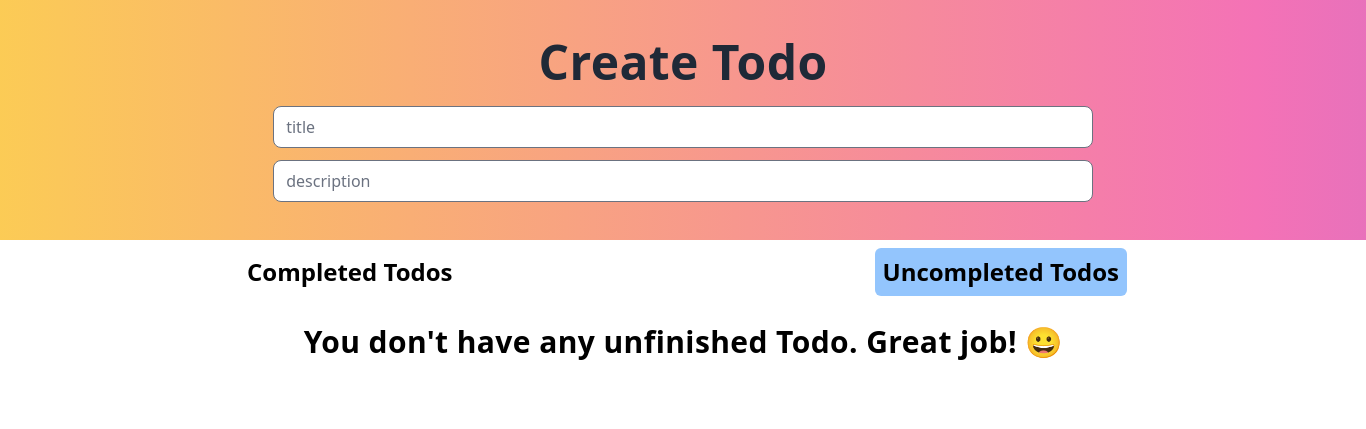
HomePage › should be possible to delete the todo
Step 1. Click the button with test id "btn-completed" → point(350, 272), box [239, 248, 461, 296]
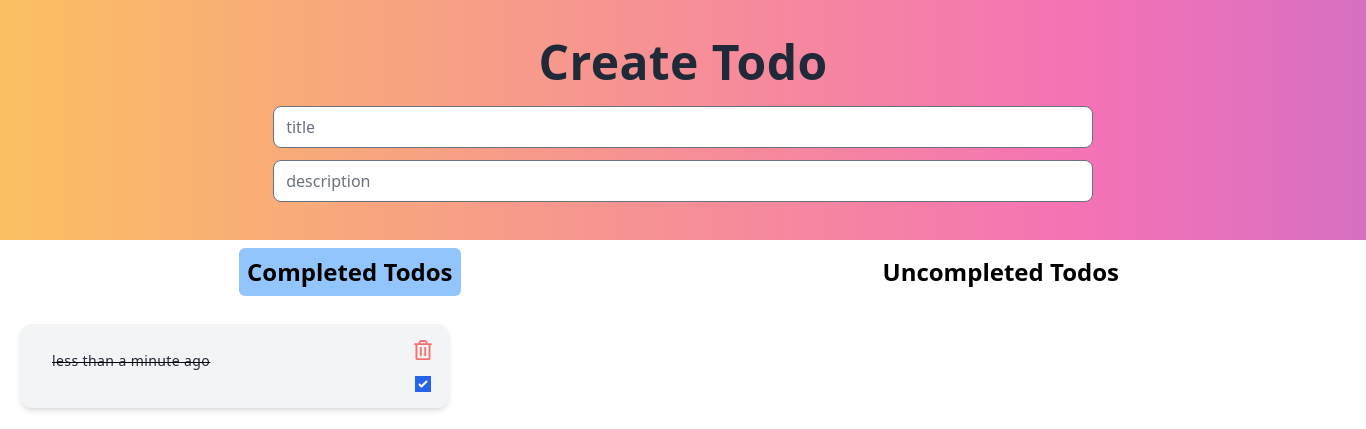
Step 2. Click the icon with test id "delete-todo" → point(423, 350), box [413, 340, 433, 360]
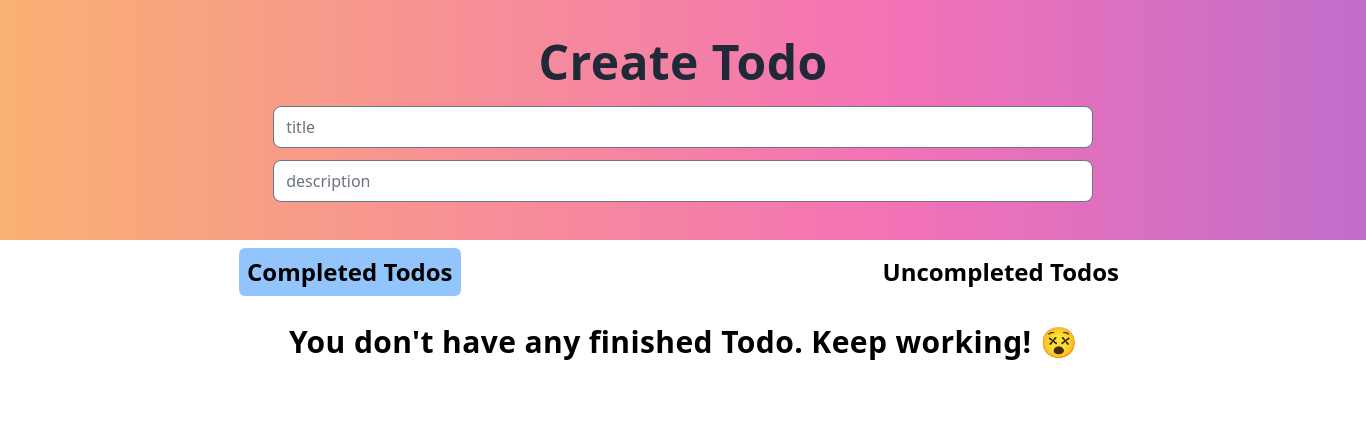
Expected: the element with test id "no-finished" is shown, [289, 324, 1077, 360]
